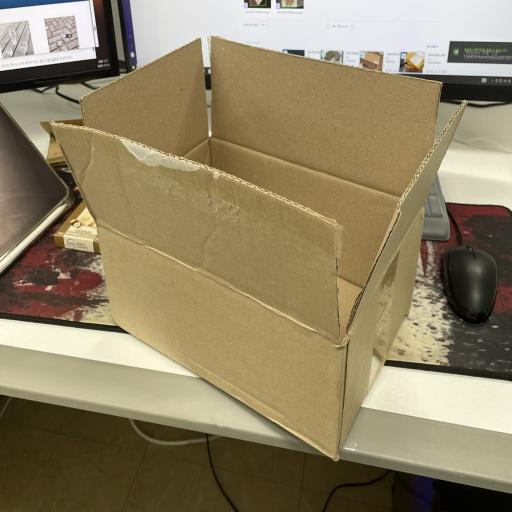box: (50, 36, 468, 462)
opened: (50, 36, 468, 345)
